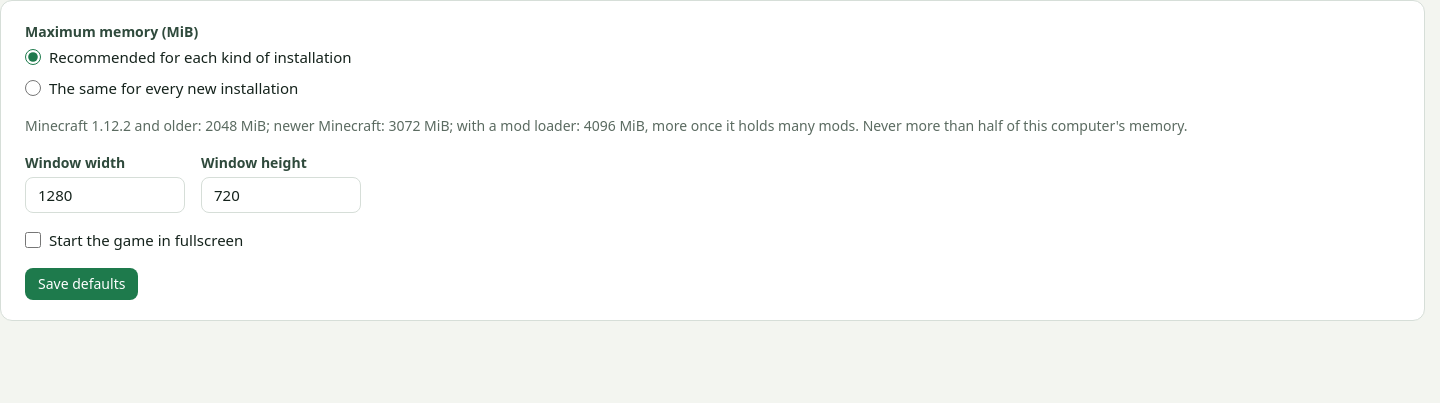
Test case: DefaultsForm › saves defaults for new installations through the backend
The width and height of the screenshot is (1440, 403).
Expected: the radio button labelled "Recommended for each kind of installation" is checked, [25,49,41,65]
Click the radio button labelled "The same for every new installation". click: (33, 88)
box: [25,80,41,96]
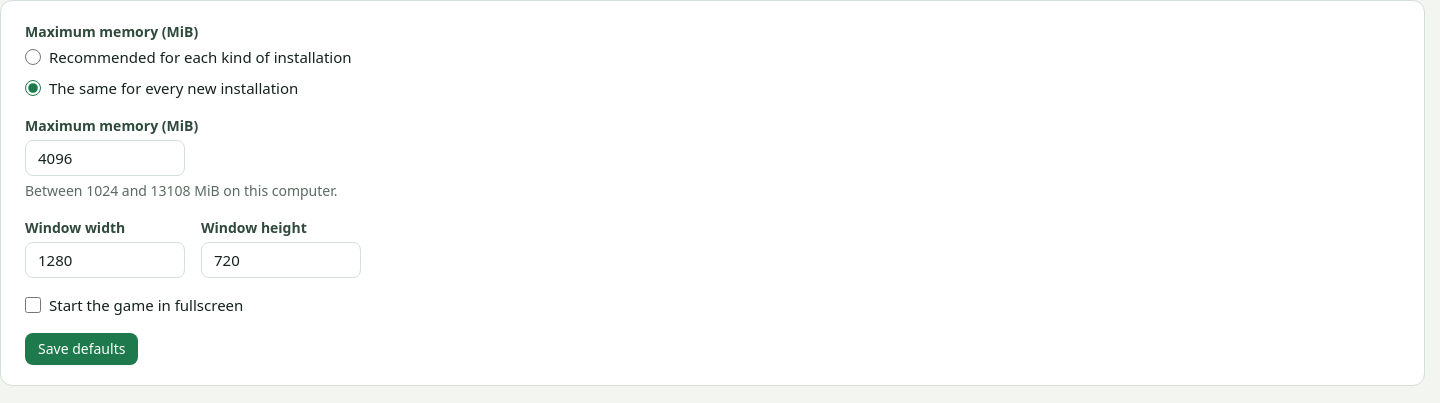
Replace the text in the number field labelled "Maximum memory (MiB)" with "6144". click: (105, 158)
box: [25,140,185,176]
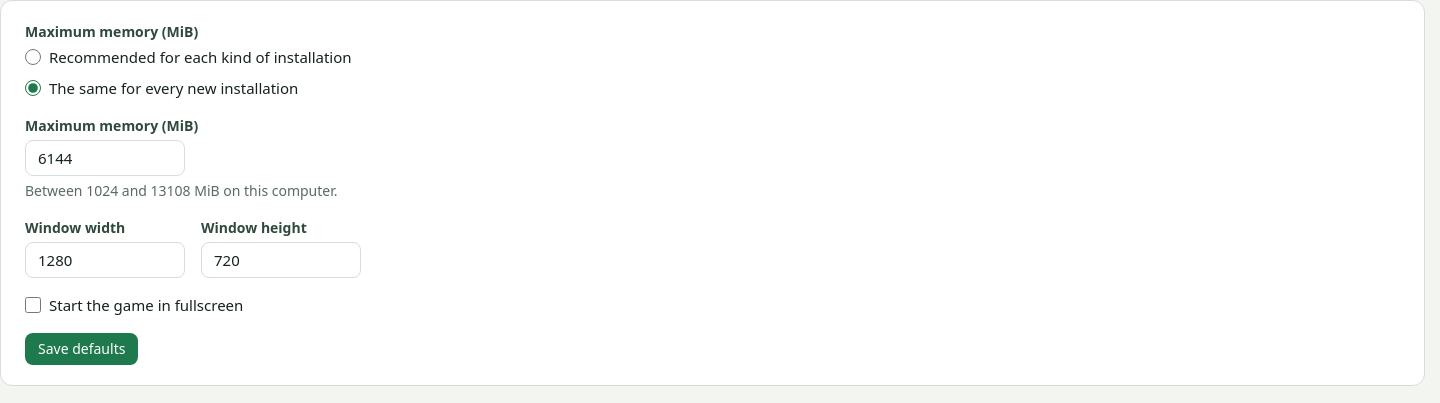
Click the checkbox labelled "Start the game in fullscreen". click: (33, 305)
box: [25,297,41,313]
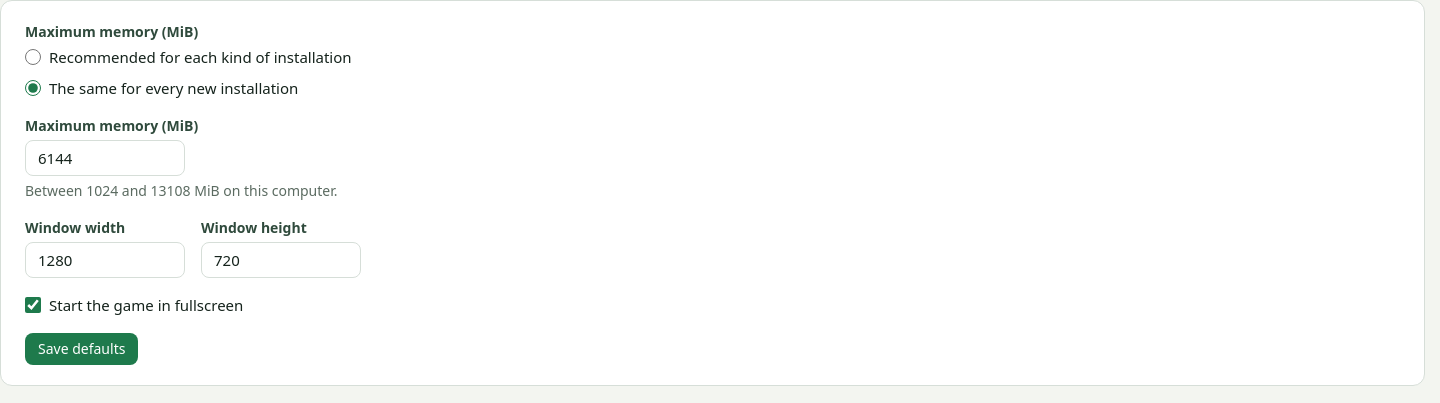
Click the button "Save defaults". click: (82, 348)
box: [25,332,138,364]
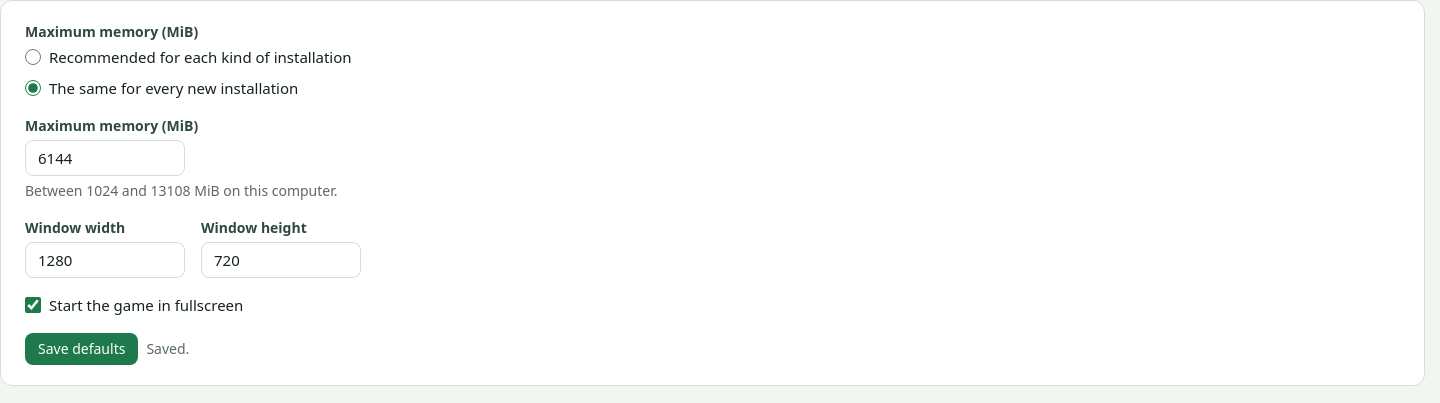
Result: the text "Saved." is shown at [146,338,189,359]
